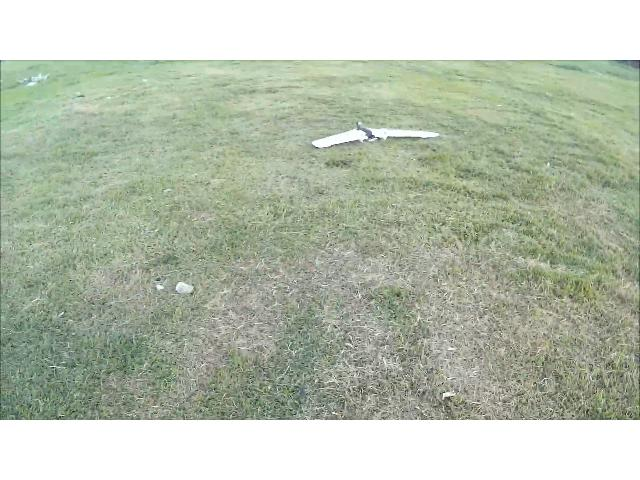Anti-Drone: (268, 91, 480, 183)
